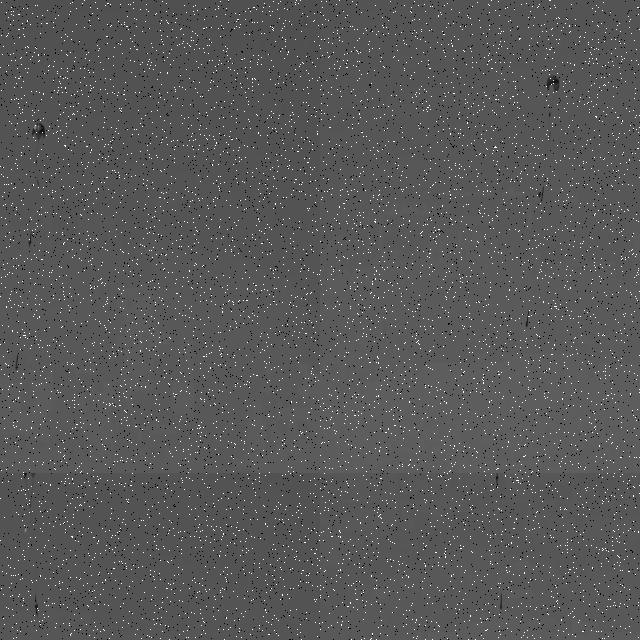Rocket: (525, 310, 530, 328), (15, 354, 19, 371), (499, 593, 503, 609)
